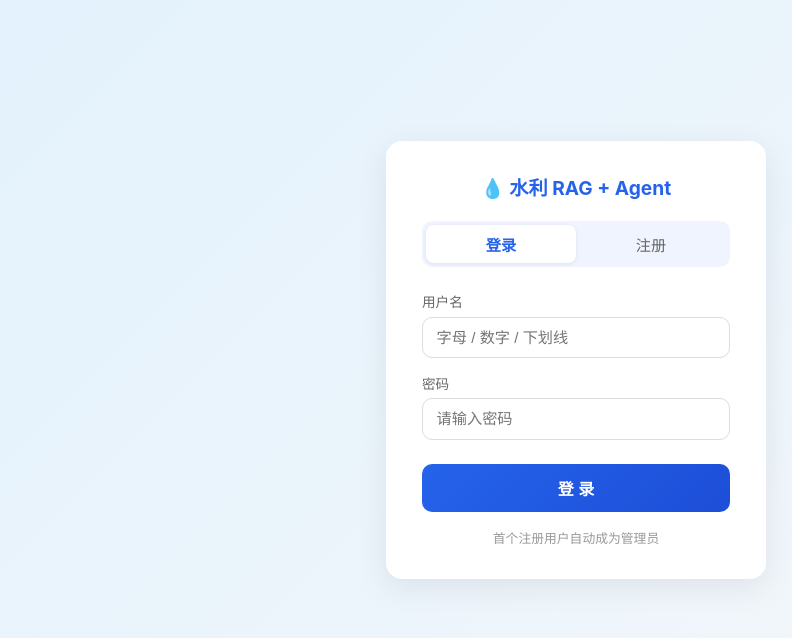
Scenario: LoginView › 登录失败：展示可读错误信息
Type "admin" into the field labelled "用户名" at (576, 338), box [422,317,730,358]
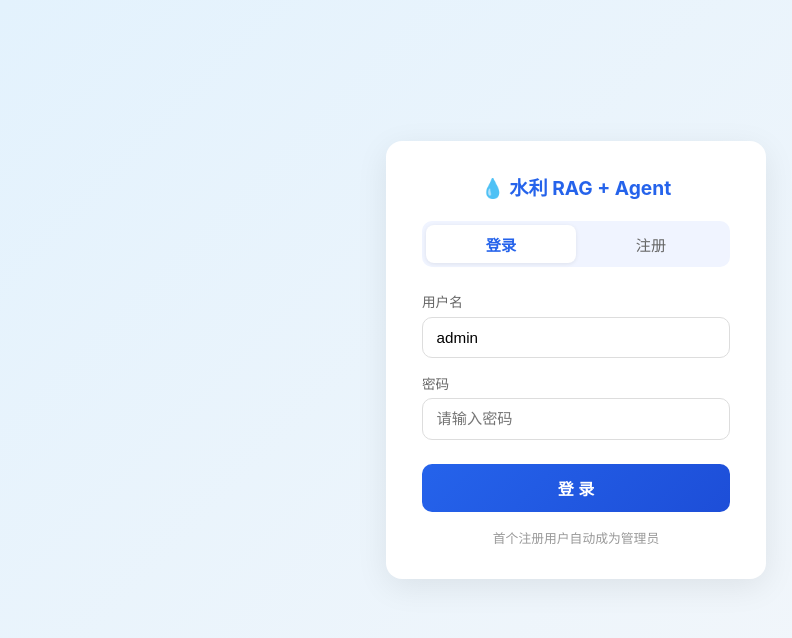
Type "wrong" into the password field labelled "密码" at (576, 419), box [422,398,730,440]
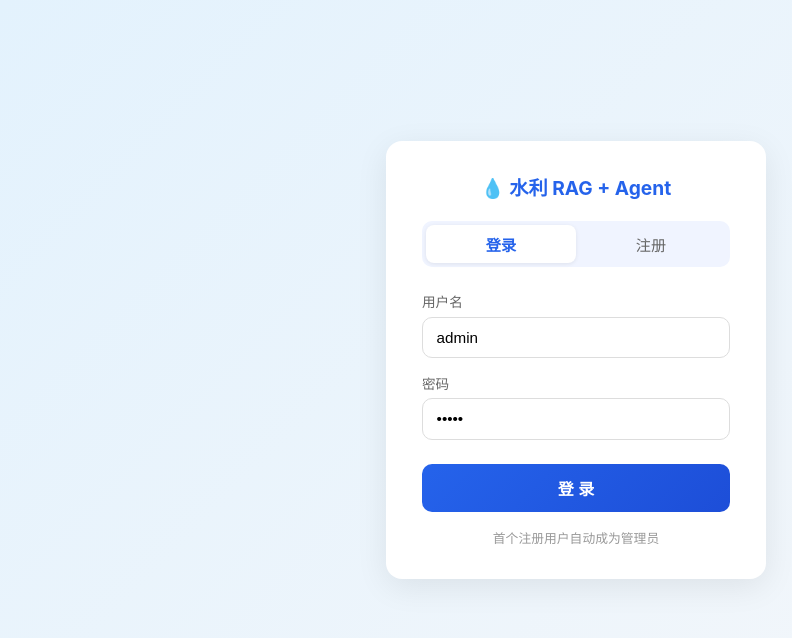
Submit the form, box [422,291,730,512]
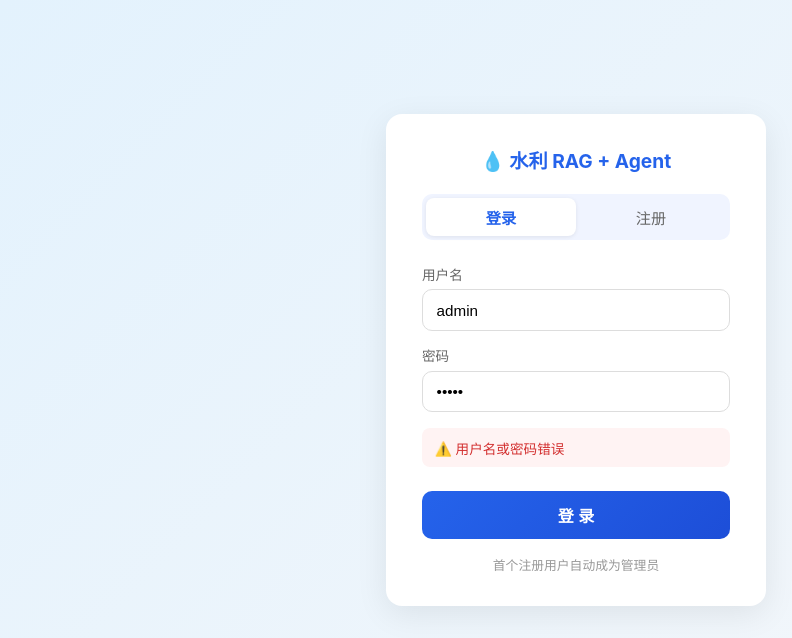
Now the text with class "login-error" shows "用户名或密码错误", box [435,441,564,457]
